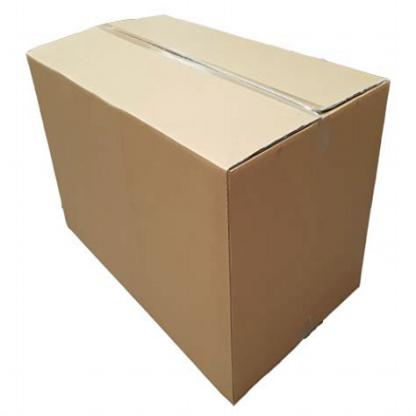box: (24, 10, 390, 404)
